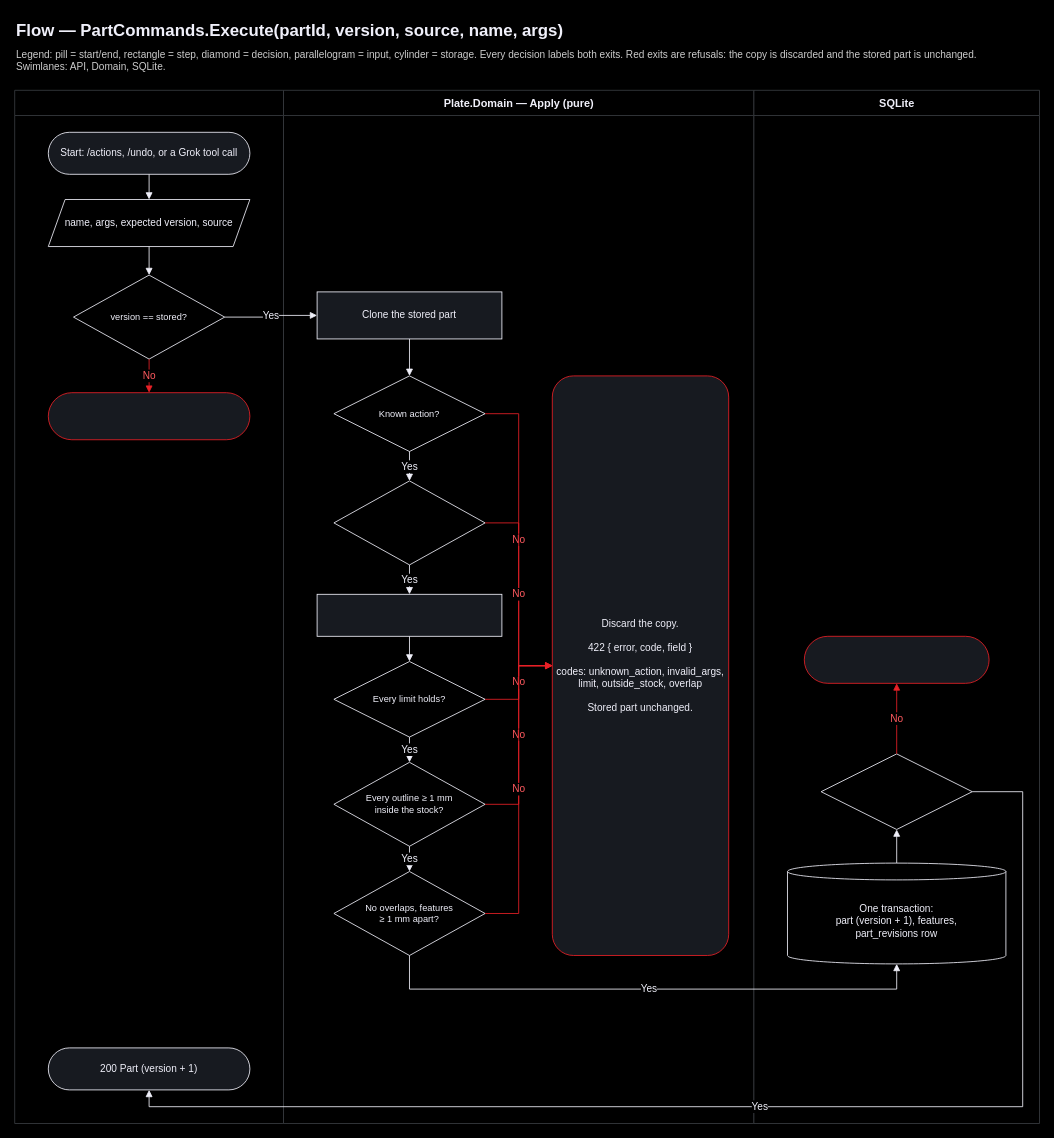
Some shapes in this 1054 by 1138 pixel diagram are drawn without their labels. The box of each missing label's shape, as (x1, y1, x2, y2) in pixels:
409 version_conflict (concurrent write): (803, 635, 989, 683)
409 version_conflict stored part unchanged: (47, 392, 250, 440)
Args match schema, all numbers finite?: (333, 480, 485, 565)
Commit ok?: (820, 753, 972, 830)
Mutate the copy: (316, 593, 502, 636)
Plate.Api / PartCommands: (14, 89, 284, 1124)
